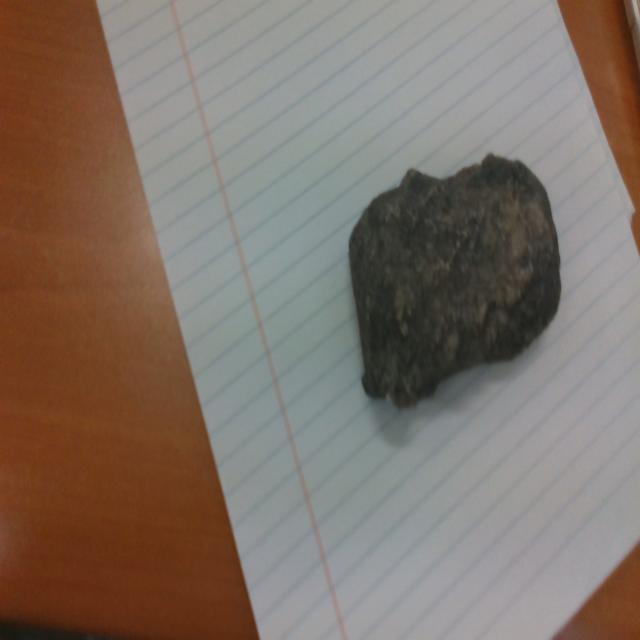stone: (349, 153, 561, 412)
